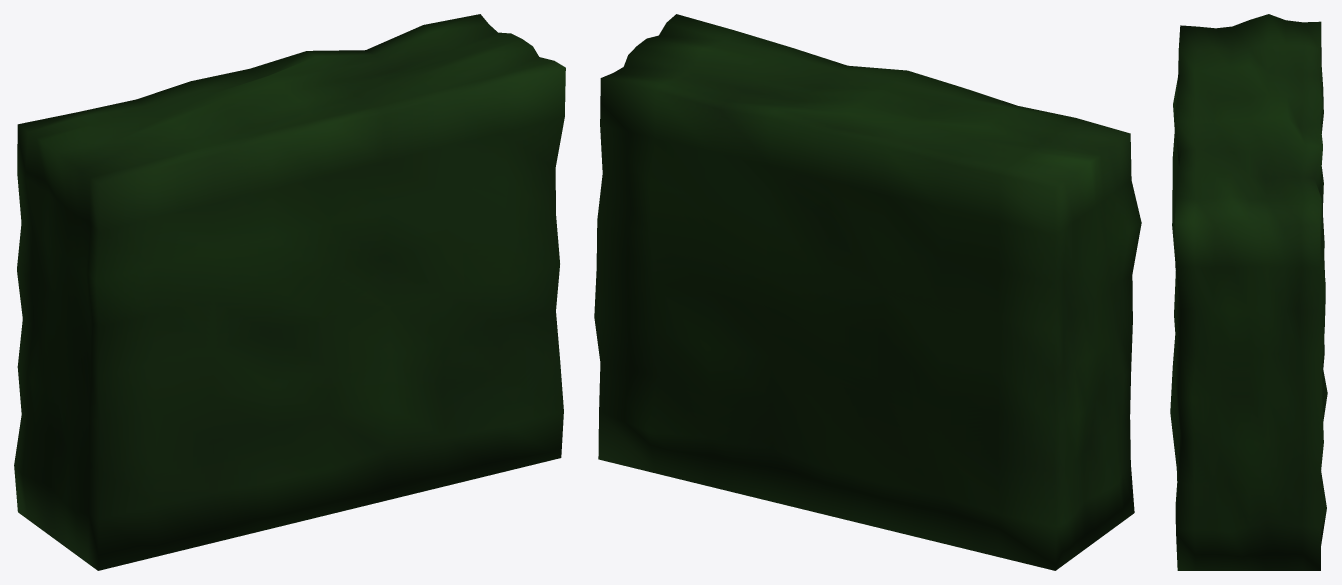
Rendered from hedge.glb.
3 views of the same model, side by side, from view 1: azimuth 30°, elevation 25°; view 2: azimuth 150°, elevation 25°; view 3: azimuth 270°, elevation 25° (orthographic). The views are drawn at different scales.
Visible parts, largest first — view 1: foliage; view 2: foliage; view 3: foliage.
Part boxes in pixels (left/top/right/bottom): foliage: left=14, top=14, right=565, bottom=570; foliage: left=594, top=14, right=1141, bottom=570; foliage: left=1170, top=14, right=1327, bottom=570.
Size of the model in its own units: 2.05 by 1.62 by 0.6581.
